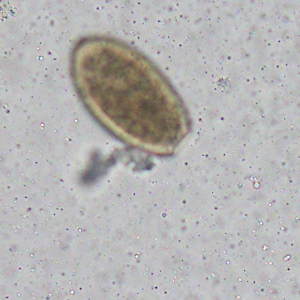Fasciola_hepatica_egg: (69, 33, 193, 156)
